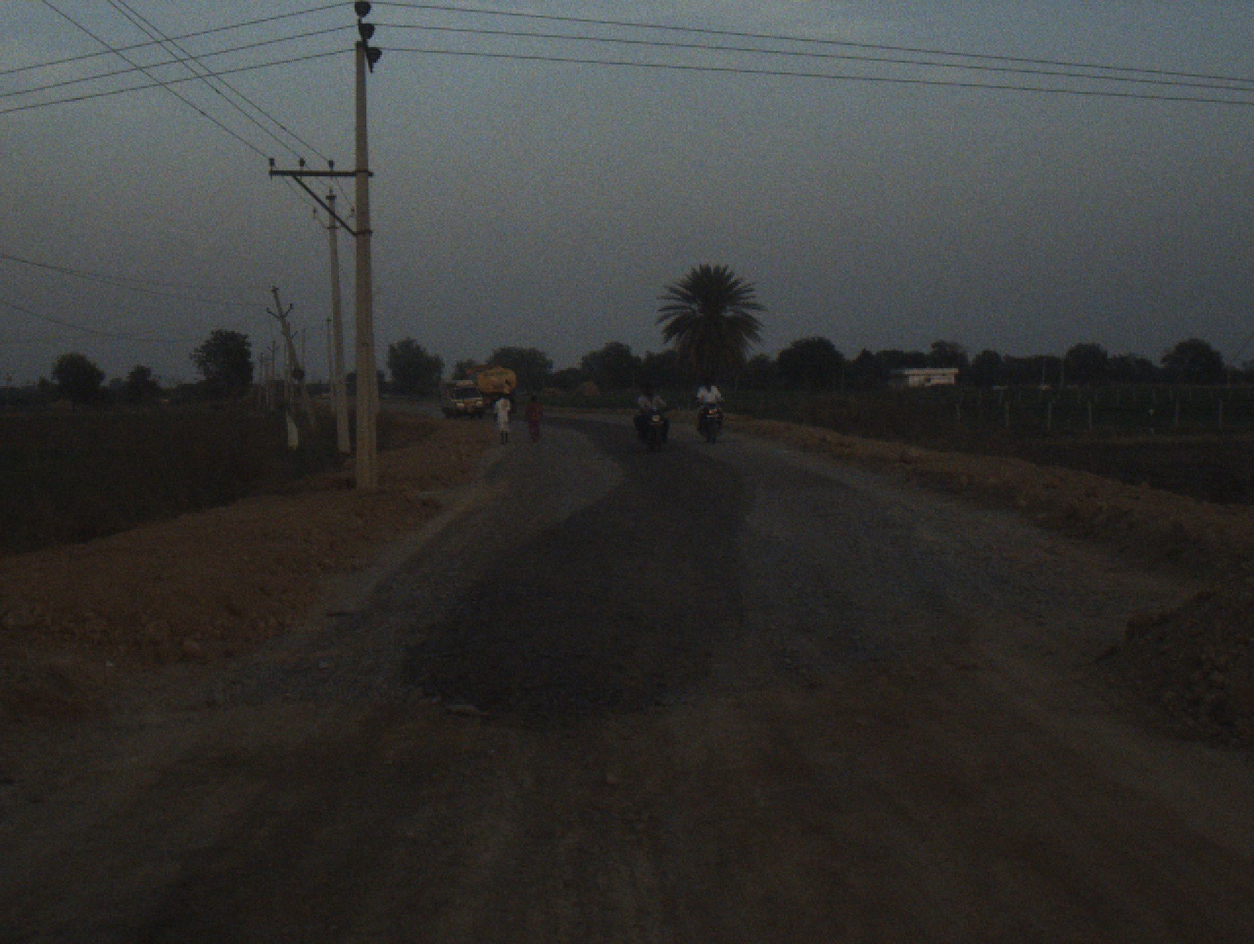car: (444, 379, 488, 420)
motorcycle: (639, 402, 674, 452), (703, 397, 723, 440)
person: (526, 386, 546, 448), (494, 388, 511, 438)
rider: (635, 383, 672, 444), (698, 374, 724, 440)
truck: (455, 357, 520, 407)
